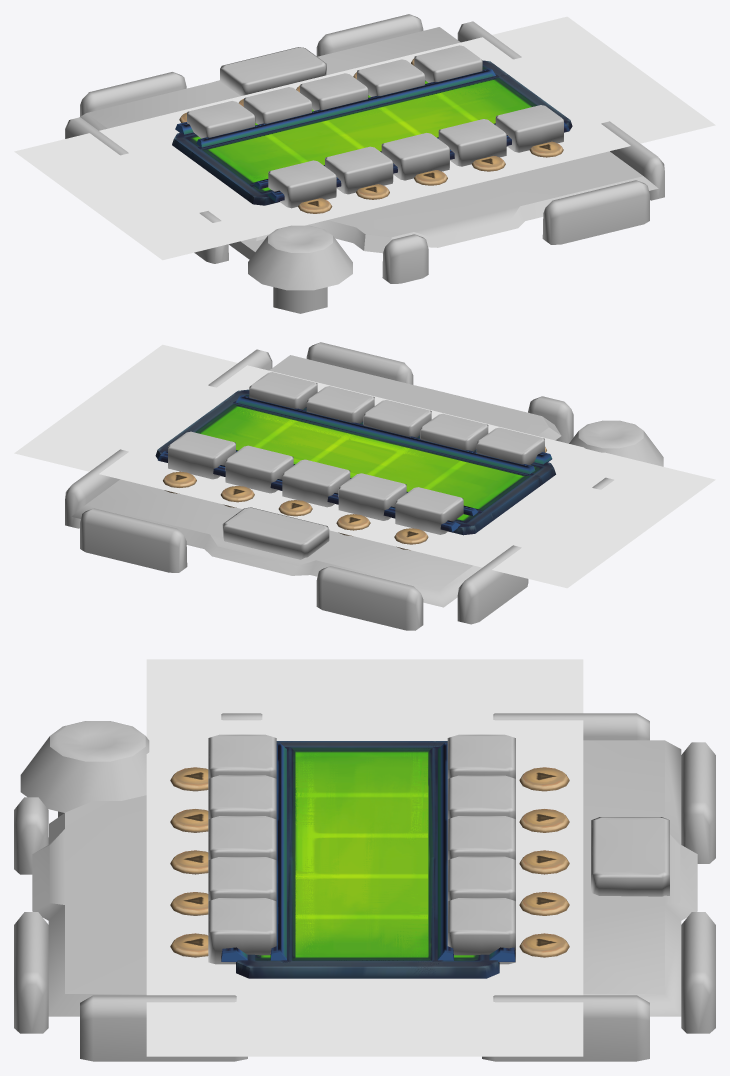
The model's file is PasswordComponent.fbx.
3 renders of one model, top to bottom at view 1: azimuth 30°, elevation 25°; view 2: azimuth 150°, elevation 25°; view 3: azimuth 270°, elevation 25°, orthographic. The views are drawn at different scales.
Parts seen in each view (by area): view 1: LightGlow, Component_PuzzleBackground, Button_TOP (×2), Backing_Off (×2), Backing_On, Submit_Button, Button_BOT_05, Button_BOT_01, Button_BOT_04, Button_BOT_03, Button_BOT_02; view 2: LightGlow, Component_PuzzleBackground, Backing_Off (×2), Button_TOP, Backing_On, Submit_Button, Button_BOT_05 (×2), Button_BOT_04 (×2), Button_BOT_02 (×2), Button_BOT_01 (×2), Button_BOT_03; view 3: LightGlow, Component_PuzzleBackground, Backing_Off (×2), Button_TOP (×2), Backing_On, Submit_Button, Button_BOT_01 (×2), Button_BOT_02 (×2), Button_BOT_05 (×2), Button_BOT_03 (×2), Button_BOT_04 (×2).
Boxes of the visible parts, x1,y1,x2,y2 form: LightGlow: (14, 16, 715, 260); Component_PuzzleBackground: (65, 14, 664, 313); Button_TOP (×2): (268, 105, 563, 213); Backing_Off (×2): (174, 60, 572, 205); Backing_On: (172, 61, 569, 200); Submit_Button: (220, 47, 326, 95); Button_BOT_05: (187, 101, 255, 138); Button_BOT_01: (414, 45, 482, 82); Button_BOT_04: (243, 87, 311, 124); Button_BOT_03: (300, 73, 368, 110); Button_BOT_02: (357, 59, 424, 96); LightGlow: (14, 344, 715, 588); Component_PuzzleBackground: (65, 342, 663, 630); Backing_Off (×2): (158, 389, 555, 533); Button_TOP: (249, 372, 544, 464); Backing_On: (155, 390, 553, 535); Submit_Button: (222, 507, 329, 559); Button_BOT_05 (×2): (394, 487, 463, 550); Button_BOT_04 (×2): (336, 473, 406, 536); Button_BOT_02 (×2): (220, 445, 293, 507); Button_BOT_01 (×2): (163, 431, 235, 493); Button_BOT_03: (282, 459, 350, 507); LightGlow: (146, 659, 583, 1056); Component_PuzzleBackground: (14, 713, 715, 1061); Backing_Off (×2): (221, 741, 515, 978); Button_TOP (×2): (170, 734, 276, 964); Backing_On: (224, 741, 515, 978); Submit_Button: (591, 817, 669, 896); Button_BOT_01 (×2): (447, 898, 569, 964); Button_BOT_02 (×2): (447, 856, 569, 915); Button_BOT_05 (×2): (447, 734, 569, 791); Button_BOT_03 (×2): (447, 816, 569, 874); Button_BOT_04 (×2): (447, 775, 569, 832).
Size of the model in its own units: 0.2677 by 0.0367 by 0.2.
